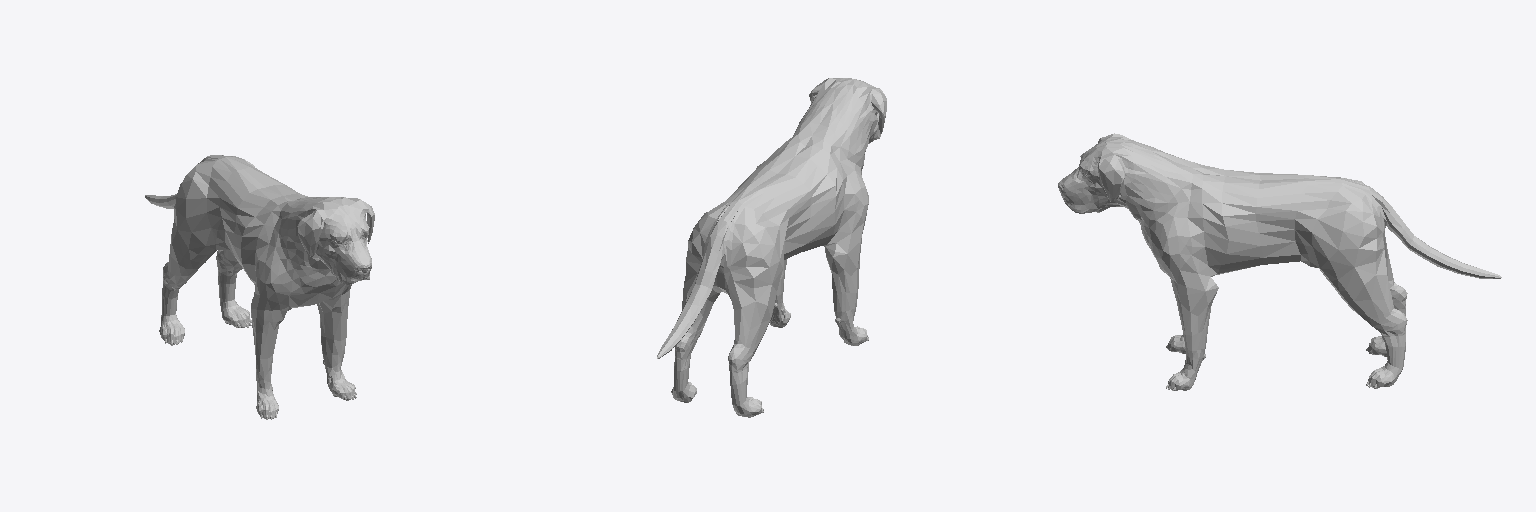
The model's file is MASTIFF.OBJ.
The picture shows the model from 3 angles: view 1: azimuth 30°, elevation 25°; view 2: azimuth 150°, elevation 25°; view 3: azimuth 270°, elevation 25°; orthographic projection.
Parts seen in each view (by area): view 1: mstf_body; view 2: mstf_body; view 3: mstf_body.
Boxes of the visible parts, <box> form: mstf_body: <box>145,155,374,419</box>; mstf_body: <box>657,78,886,417</box>; mstf_body: <box>1058,133,1501,390</box>.
Bounding box in the file's own units: 0.3706 × 0.836 × 1.47.